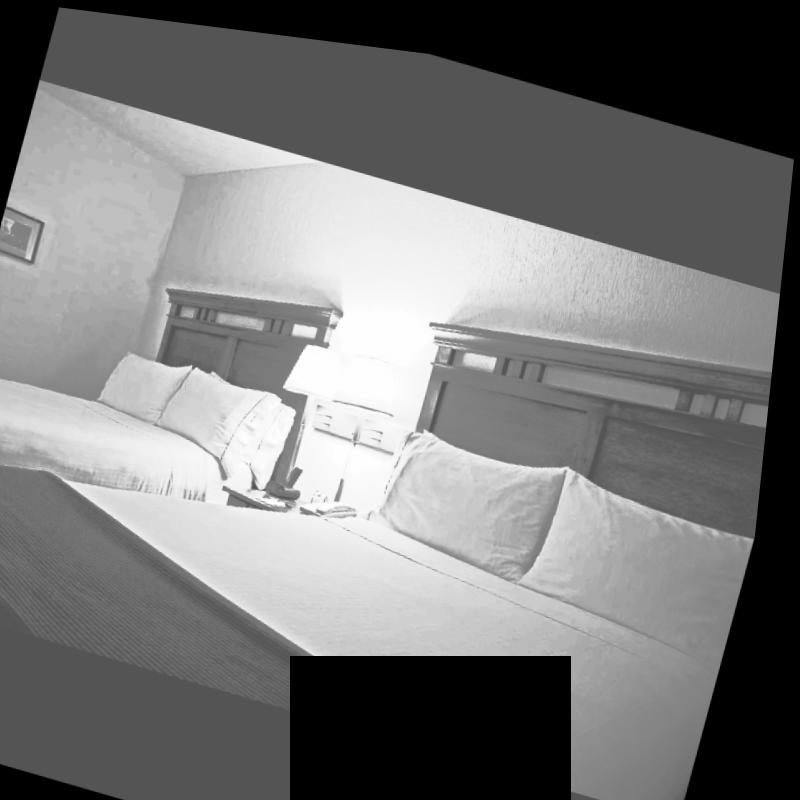pillow: (516, 436, 769, 655), (369, 397, 580, 571), (154, 352, 288, 469), (106, 338, 203, 426), (233, 387, 313, 490)
